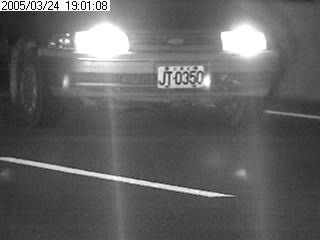plate: (155, 61, 205, 89)
